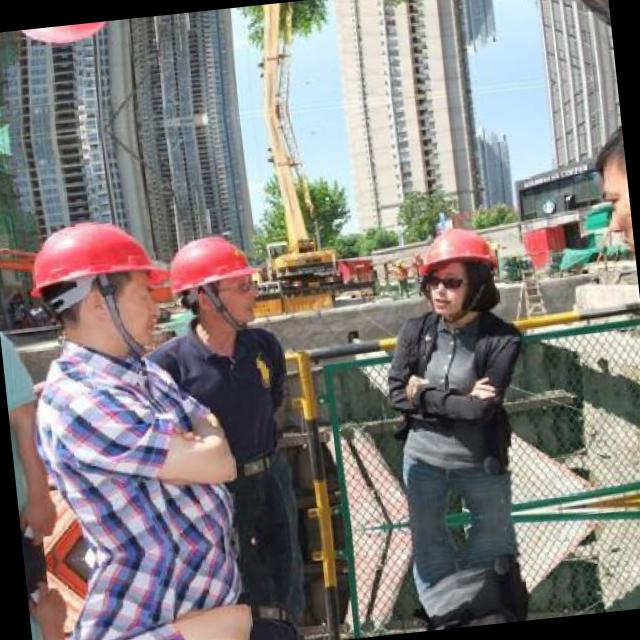helmet: (26, 208, 156, 362), (165, 228, 262, 336), (412, 220, 506, 322)
